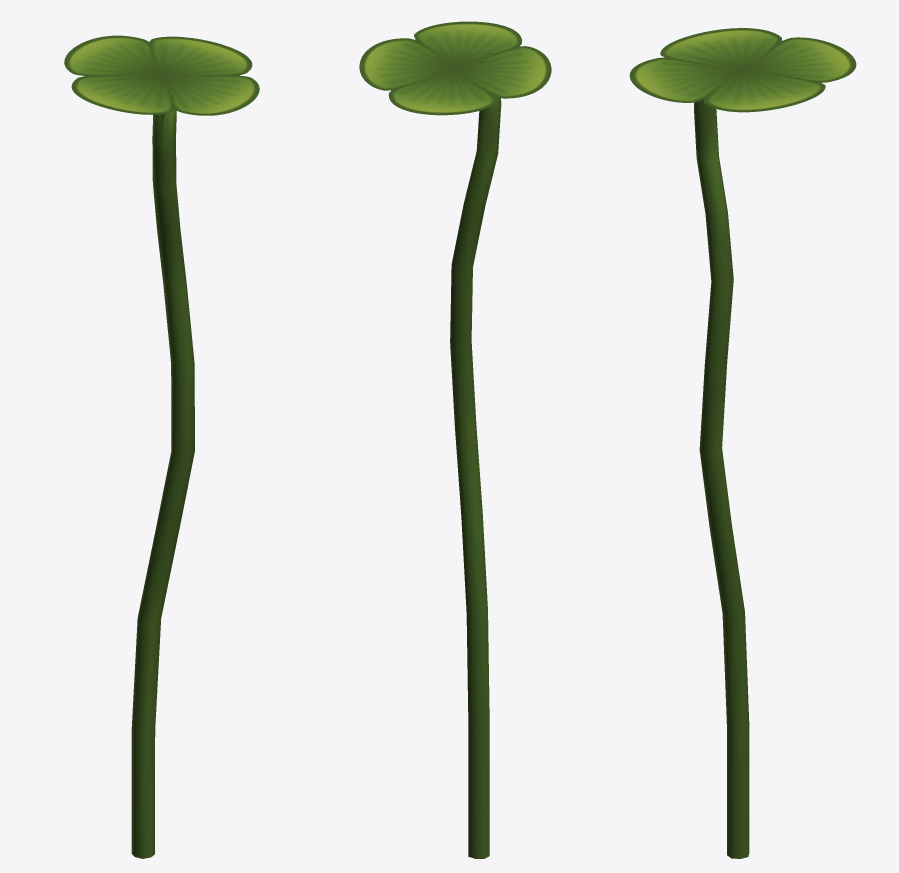
The model's file is LillypadBob.fbx.
3 views of the same model, side by side, from view 1: azimuth 30°, elevation 25°; view 2: azimuth 150°, elevation 25°; view 3: azimuth 270°, elevation 25° (orthographic). The views are drawn at different scales.
Parts seen in each view (by area): view 1: LillypadBase, RoofTile; view 2: LillypadBase, RoofTile; view 3: LillypadBase, RoofTile.
Part boxes in pixels (x1,y1,x2,y2): LillypadBase: (131,87,194,858); RoofTile: (64,35,259,115); LillypadBase: (450,53,501,858); RoofTile: (359,21,551,115); LillypadBase: (694,58,749,858); RoofTile: (629,28,856,112).
Bounding box in the file's own units: 0.6762 × 2.23 × 0.7214.
Materials: 1 (1 with a texture image).
